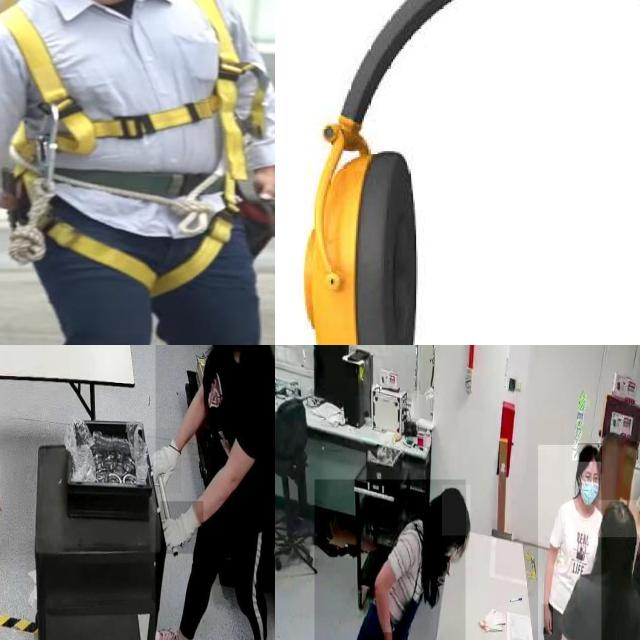Ear-protection: (319, 0, 640, 345)
Harness: (0, 0, 262, 303)
face_mask: (581, 455, 601, 507)
hand_glove: (160, 501, 204, 555), (147, 428, 181, 494)
hand_noglove: (542, 604, 554, 635), (378, 632, 394, 640)
head_nohelmet: (598, 500, 638, 538), (442, 485, 471, 536), (578, 443, 602, 463)
person: (155, 345, 275, 640), (314, 479, 465, 640), (543, 490, 639, 640), (538, 445, 601, 640)
shoes: (150, 618, 195, 640)
